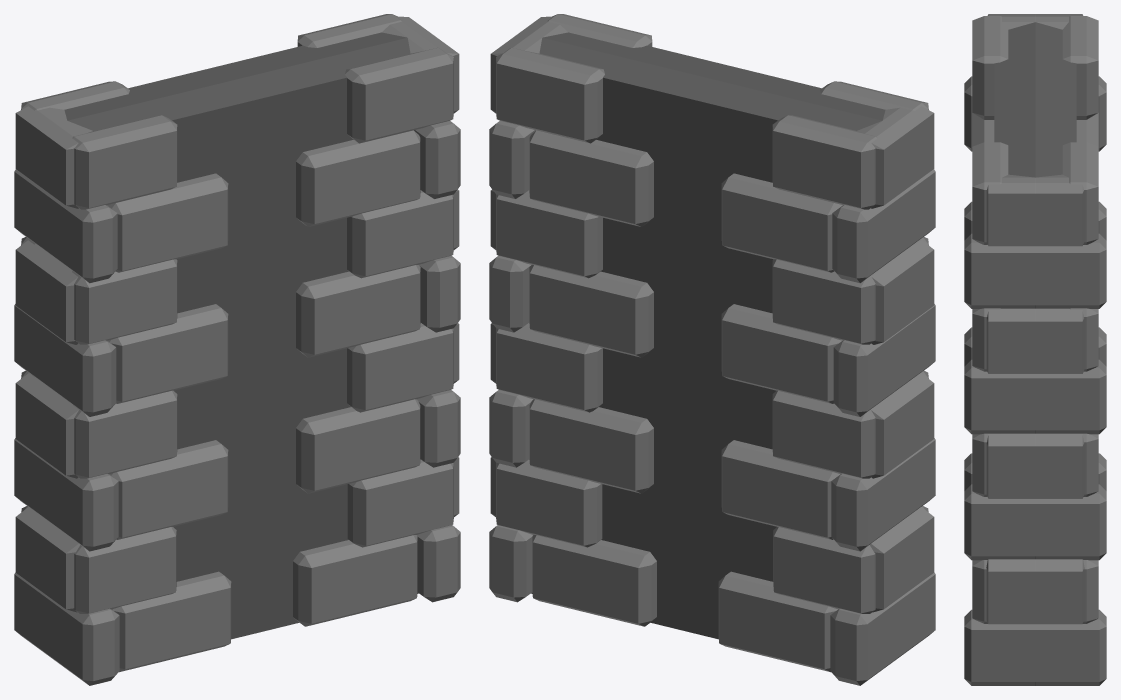
The model's file is DungeonWallSmall.fbx.
3 renders of one model, left to right at view 1: azimuth 30°, elevation 25°; view 2: azimuth 150°, elevation 25°; view 3: azimuth 270°, elevation 25°, orthographic. The views are drawn at different scales.
Parts seen in each view (by area): view 1: DungeonWallSmall; view 2: DungeonWallSmall; view 3: DungeonWallSmall.
Part boxes in pixels (bbox=[...]): DungeonWallSmall: bbox=[14, 14, 460, 685]; DungeonWallSmall: bbox=[489, 14, 935, 685]; DungeonWallSmall: bbox=[964, 14, 1106, 685].
Size of the model in its own units: 270 by 353 by 90.43.
Materials: 1 (1 with a texture image).
